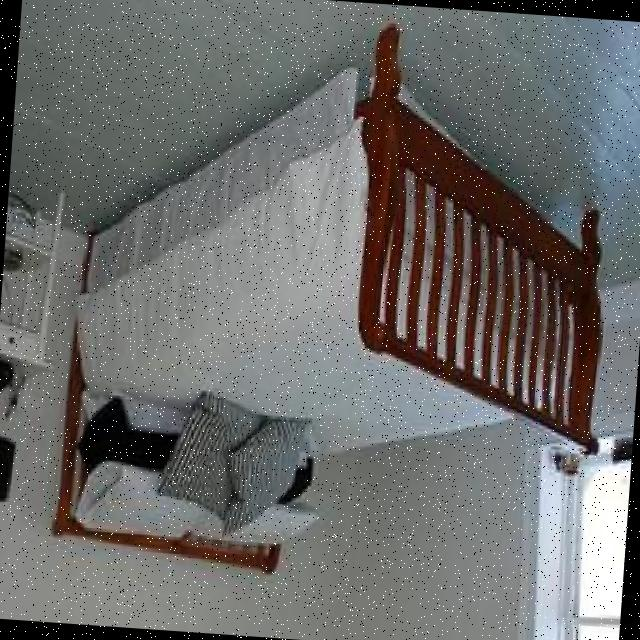Bed: (40, 0, 640, 602)
